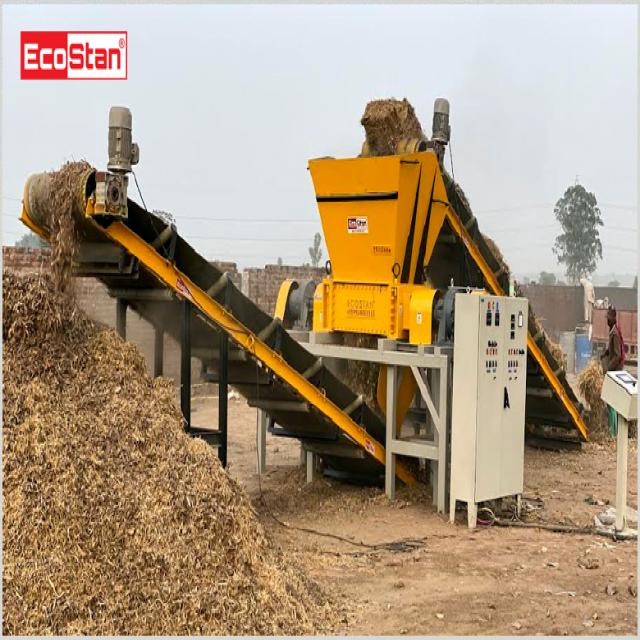Broyeur: (315, 144, 456, 334)
Convoyeur: (24, 147, 415, 512), (410, 96, 590, 441)
